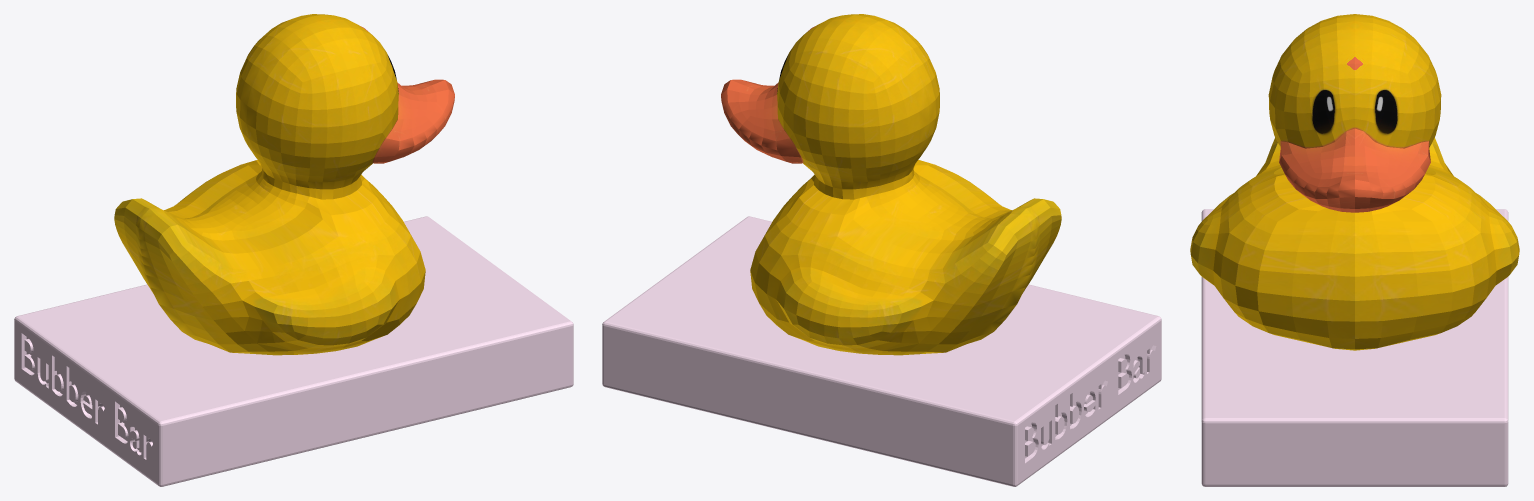
Rendered from rubber_duck.fbx.
The picture shows the model from 3 angles, left to right: view 1: azimuth 30°, elevation 25°; view 2: azimuth 150°, elevation 25°; view 3: azimuth 270°, elevation 25°; orthographic projection. The views are drawn at different scales.
Parts seen in each view (by area): view 1: Cube.001, Object_2; view 2: Cube.001, Object_2; view 3: Object_2, Cube.001.
Boxes of the visible parts, left/top/right/bottom form: Cube.001: left=14, top=216, right=573, bottom=486; Object_2: left=114, top=14, right=454, bottom=355; Cube.001: left=602, top=216, right=1161, bottom=486; Object_2: left=721, top=14, right=1061, bottom=355; Object_2: left=1190, top=14, right=1519, bottom=350; Cube.001: left=1201, top=209, right=1508, bottom=486.
Size of the model in its own units: 1326 by 1090 by 872.
2 materials, 1 textured.
